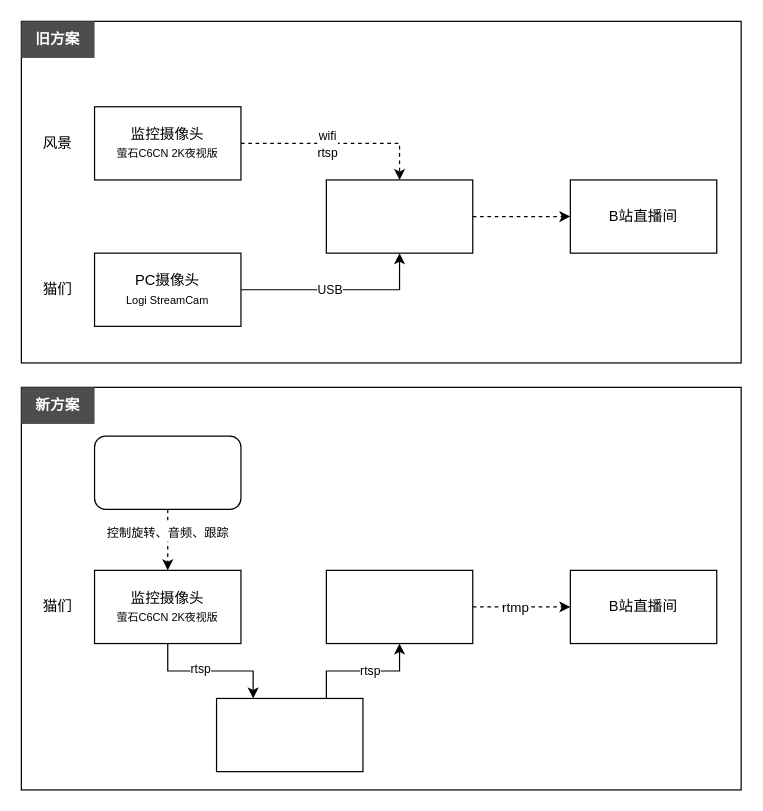
Some shapes in this 763 by 811 pixel diagram are drawn without their labels. The shapes that lost their labels are listed below. From the top down, each one's box as (x1, y1, x2, y2) in pixels, then its label:
(325, 179, 473, 253): PC 直播姬拉流+组合画面
(93, 435, 241, 509): 萤石APP
(325, 569, 473, 644): 树莓派4B ffmpeg拉流+转码+推流
(215, 697, 363, 772): 交换机 TP-LINK 5口千兆
